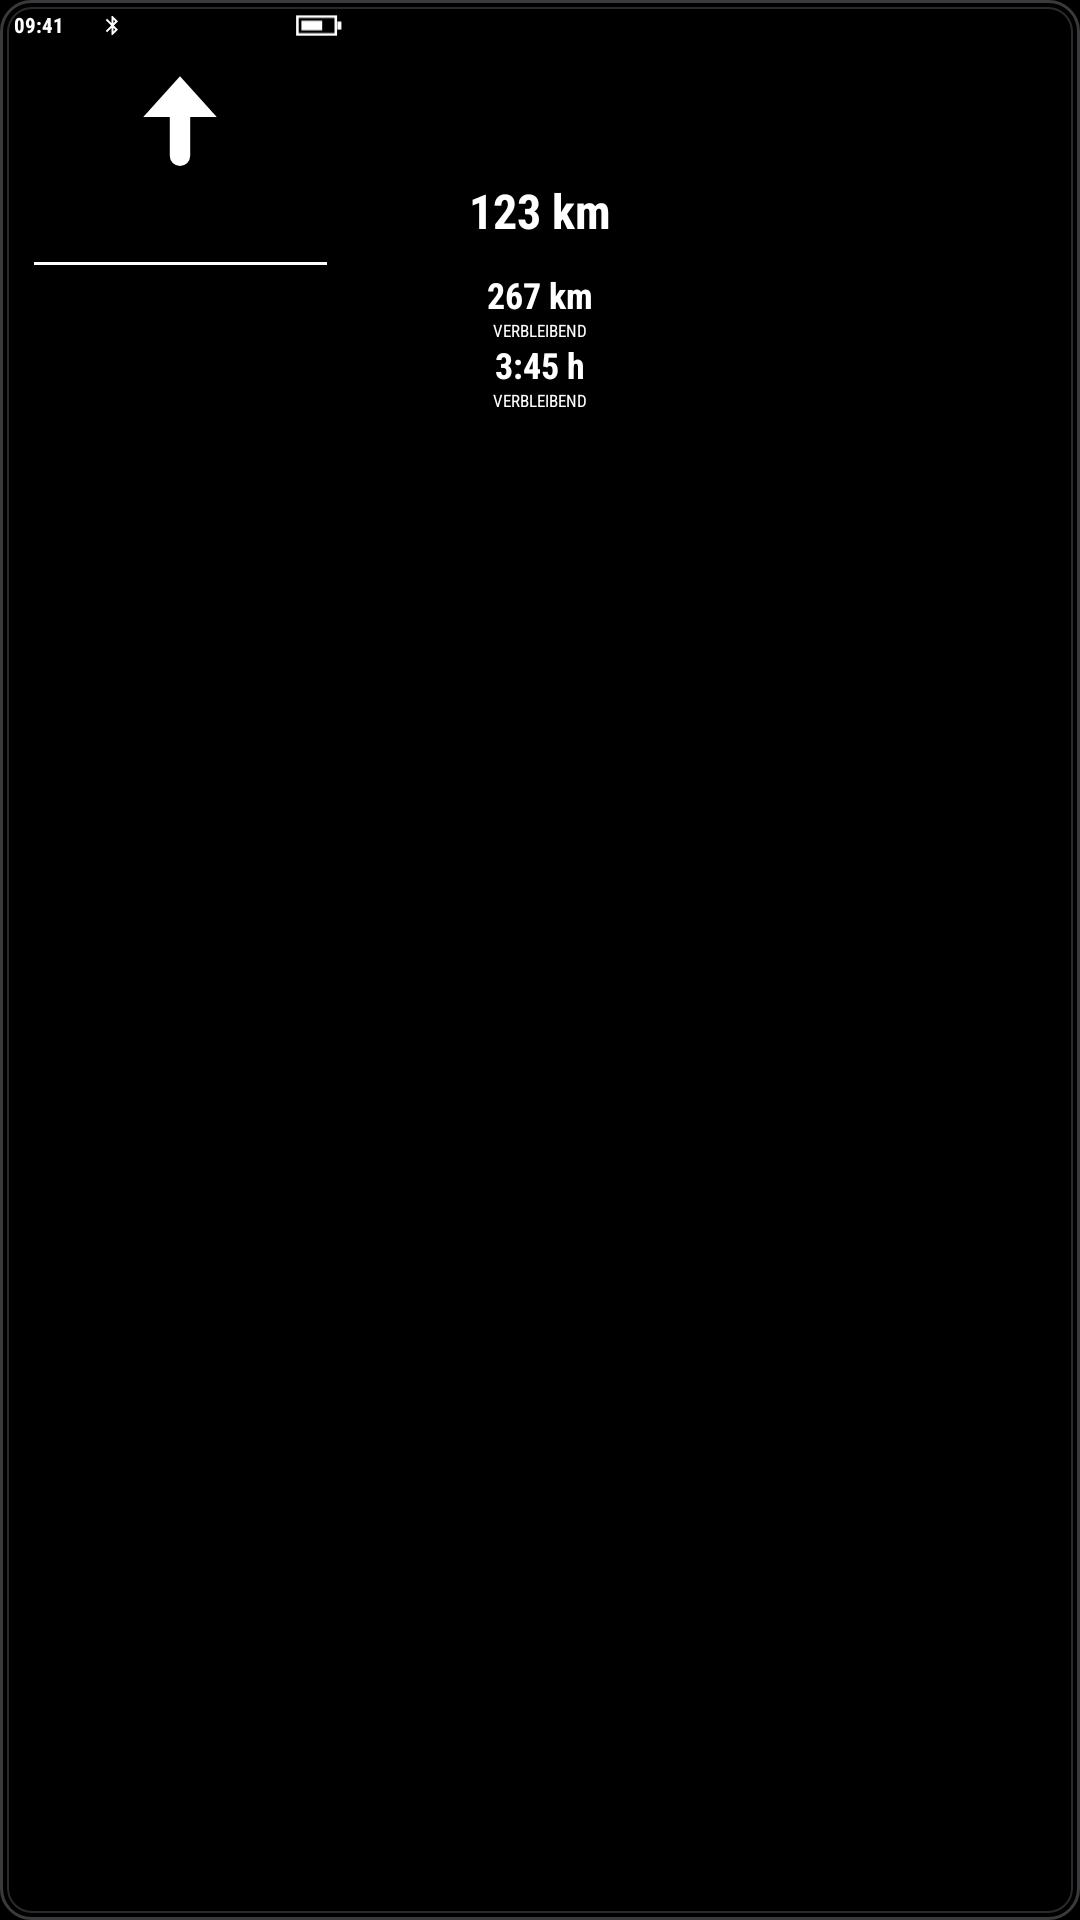

Icon click points for this 1080px x 1920px phone screenshot, format (x,y):
prev arrow up: (180,121)
